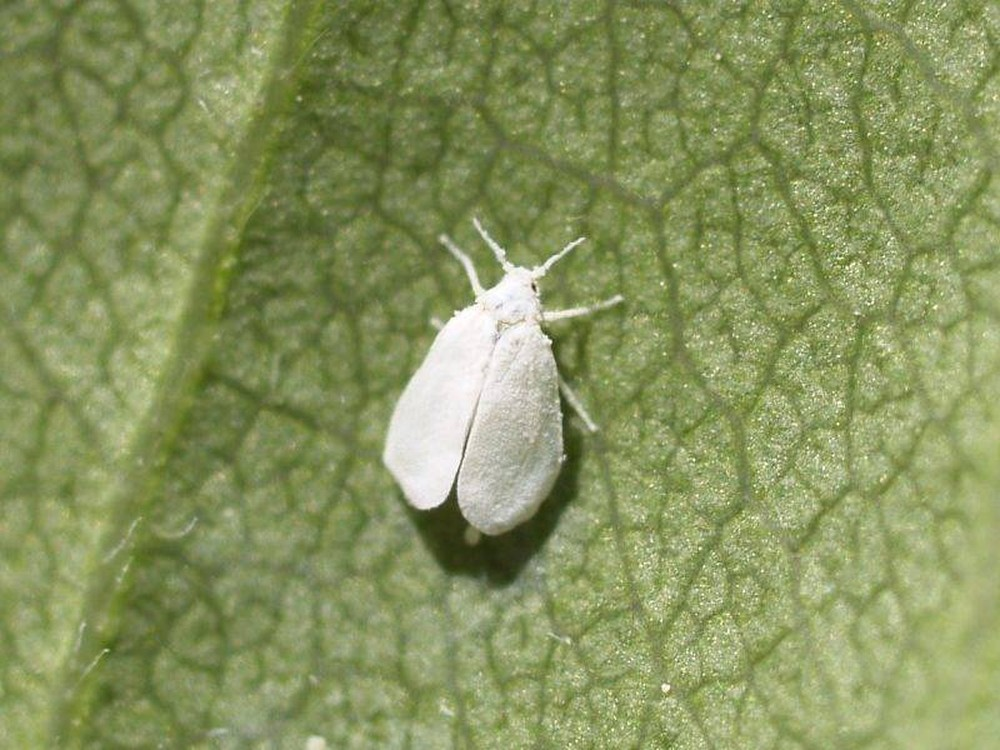Mosca Blanca: (360, 208, 631, 554)
